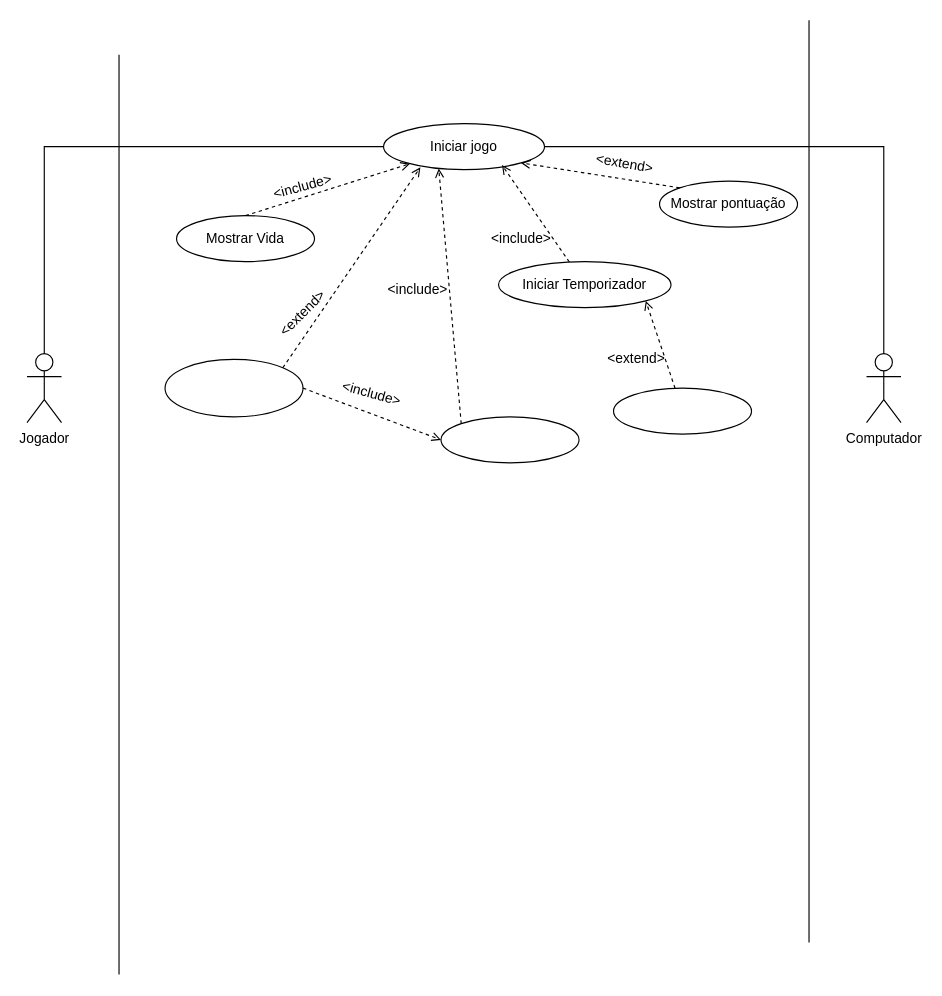
The diagram is 942 pixels wide and 996 high, and some of its shapes have lost their labels. Each missing label, with the centre of its shape:
Aumentar Velocidade: (682,410)
Gerar inimigo: (509,439)
Movimentar: (233,387)
